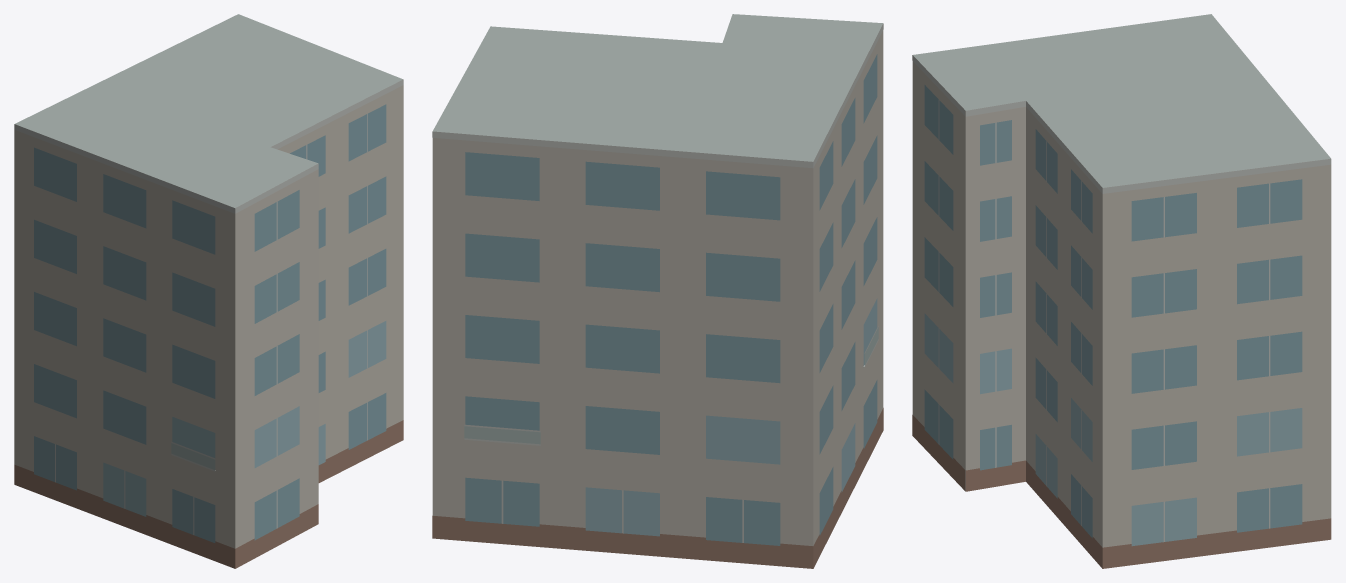
The model's file is survey-upis-32854671.glb.
3 views of the same model, side by side, from view 1: azimuth 30°, elevation 25°; view 2: azimuth 150°, elevation 25°; view 3: azimuth 270°, elevation 25° (orthographic). The views are drawn at different scales.
Visible parts, largest first — view 1: survey-upis-32854671.tmp; view 2: survey-upis-32854671.tmp; view 3: survey-upis-32854671.tmp.
Part boxes in pixels (x1=…): survey-upis-32854671.tmp: x1=14, y1=14, x2=403, y2=568; survey-upis-32854671.tmp: x1=432, y1=14, x2=883, y2=568; survey-upis-32854671.tmp: x1=912, y1=14, x2=1331, y2=568.
Bounding box in the file's own units: 15.29 × 15.6 × 15.55.
